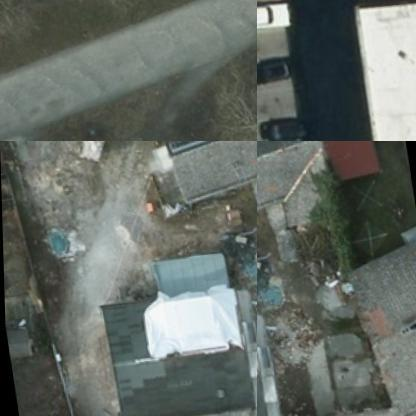car: (257, 112, 310, 140), (257, 55, 296, 90), (257, 0, 295, 32)
